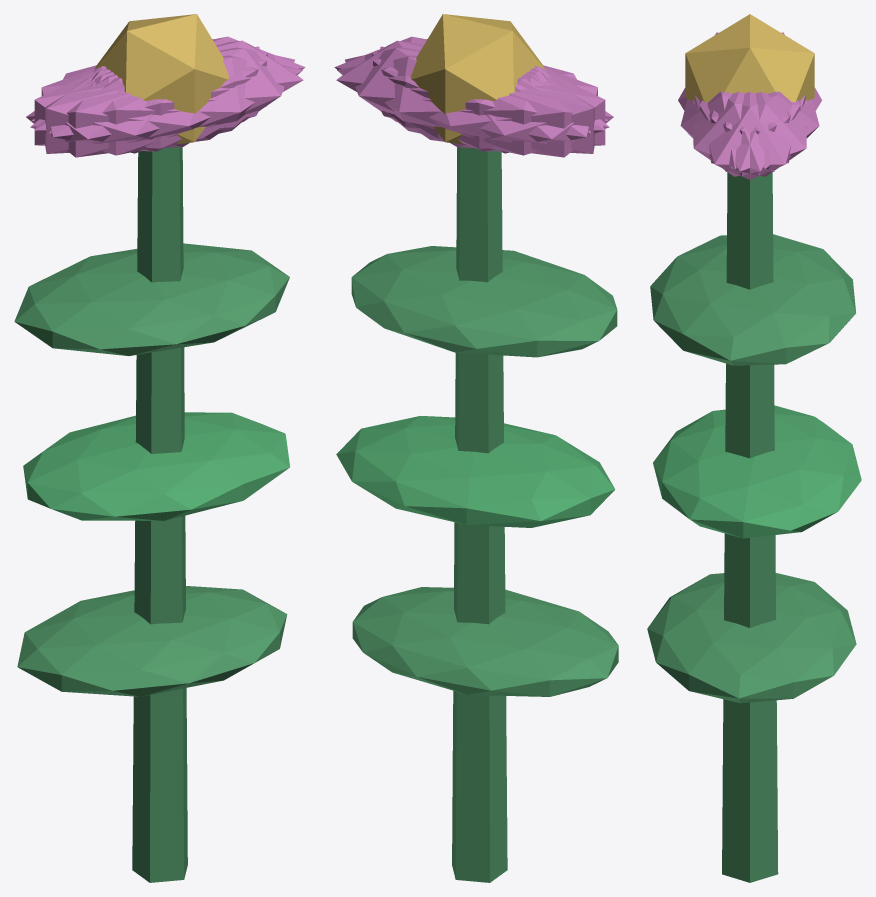
The model's file is impatiens-walleriana.glb.
The picture shows the model from 3 angles, left to right: view 1: azimuth 30°, elevation 25°; view 2: azimuth 150°, elevation 25°; view 3: azimuth 270°, elevation 25°; orthographic projection.
Parts seen in each view (by area): view 1: stem, leaf2, leaf0, leaf1, center, petal1, petal6, petal2, petal5, petal7, petal0, petal4 (+2 smaller); view 2: stem, leaf1, leaf2, leaf0, center, petal8, petal3, petal7, petal4, petal2, petal0, petal5 (+2 smaller); view 3: stem, leaf2, leaf1, leaf0, center, petal0, petal4, petal5, petal1, petal8.
Boxes of the visible parts, <box> form: stem: <box>132,147,187,882</box>; leaf2: <box>14,243,289,355</box>; leaf0: <box>17,586,287,696</box>; leaf1: <box>23,412,289,520</box>; center: <box>94,14,228,144</box>; petal1: <box>30,55,302,155</box>; petal6: <box>26,67,222,157</box>; petal2: <box>45,46,259,153</box>; petal5: <box>49,47,294,148</box>; petal7: <box>34,52,267,151</box>; petal0: <box>94,40,303,138</box>; petal4: <box>31,36,305,130</box>; stem: <box>452,147,507,882</box>; leaf1: <box>336,416,615,527</box>; leaf2: <box>351,246,617,357</box>; leaf0: <box>352,587,618,696</box>; center: <box>410,14,545,144</box>; petal8: <box>337,55,609,155</box>; petal3: <box>416,67,613,157</box>; petal7: <box>380,46,594,153</box>; petal4: <box>345,47,590,148</box>; petal2: <box>372,52,605,151</box>; petal0: <box>336,40,545,138</box>; petal5: <box>334,36,608,130</box>; stem: <box>722,172,778,882</box>; leaf2: <box>650,234,856,365</box>; leaf1: <box>653,405,861,538</box>; leaf0: <box>647,573,856,703</box>; center: <box>685,14,814,102</box>; petal0: <box>694,92,805,179</box>; petal4: <box>699,92,806,176</box>; petal5: <box>693,92,800,176</box>; petal1: <box>680,91,790,169</box>; petal8: <box>709,91,819,169</box>.
Bounding box in the file's own units: 0.1491 × 0.4389 × 0.1017.
